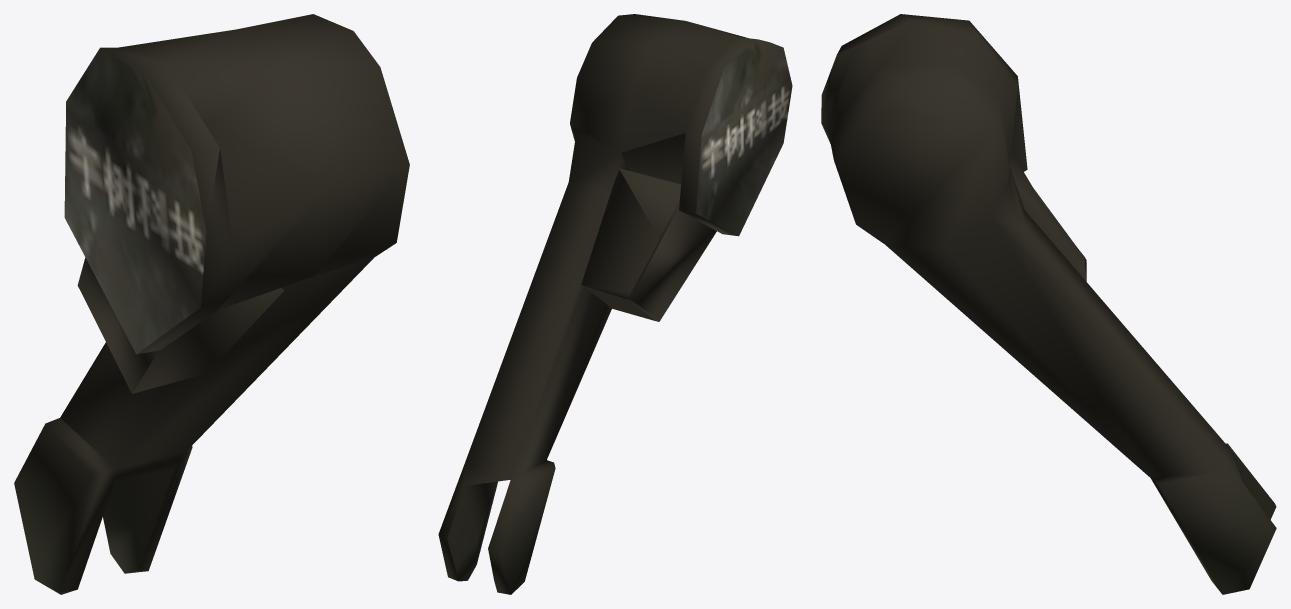
Rendered from upper_leg_mirror2_lores.obj.
3 views of the same model, side by side, from view 1: azimuth 30°, elevation 25°; view 2: azimuth 150°, elevation 25°; view 3: azimuth 270°, elevation 25° (orthographic). The views are drawn at different scales.
Visible parts, largest first — view 1: Upper_Leg_Mirror_Upper_Leg_Mirror.000; view 2: Upper_Leg_Mirror_Upper_Leg_Mirror.000; view 3: Upper_Leg_Mirror_Upper_Leg_Mirror.000.
Boxes of the visible parts, x1,y1,x2,y2 form: Upper_Leg_Mirror_Upper_Leg_Mirror.000: [14, 14, 409, 594]; Upper_Leg_Mirror_Upper_Leg_Mirror.000: [438, 14, 792, 594]; Upper_Leg_Mirror_Upper_Leg_Mirror.000: [821, 14, 1276, 594].
Bounding box in the file's own units: 0.0874 × 0.2616 × 0.2122.
1 material, 1 textured.
